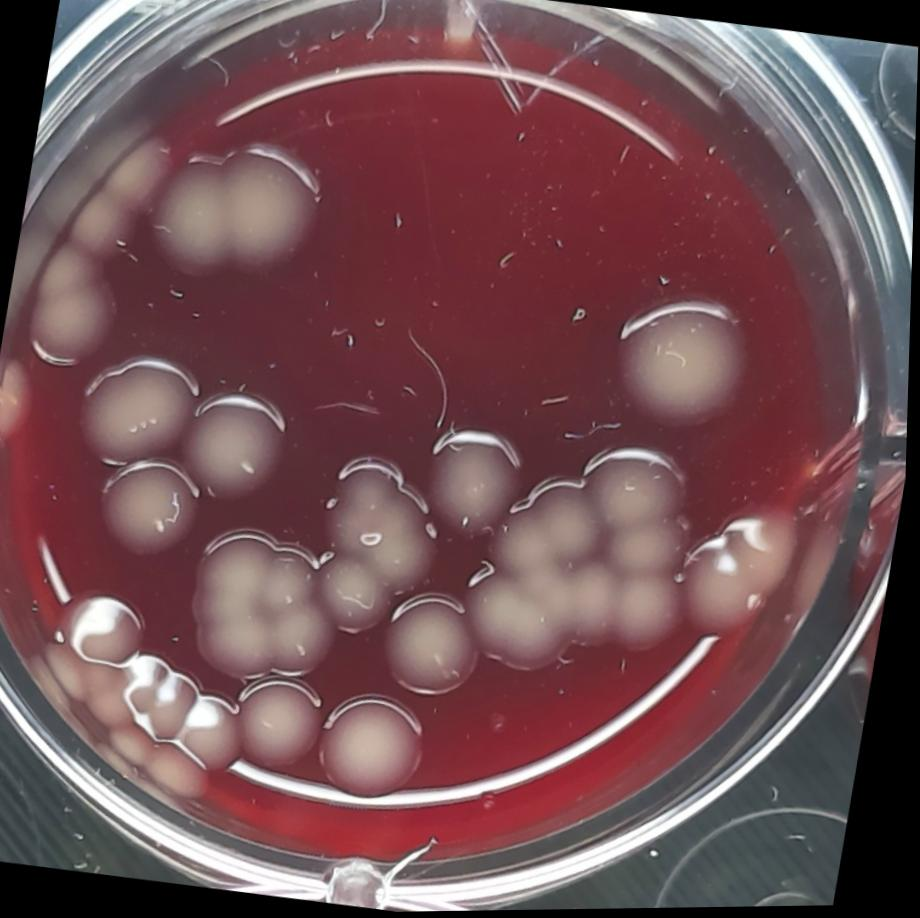vharveyi: (457, 424, 709, 694), (182, 521, 356, 690), (308, 448, 455, 648), (151, 139, 333, 284), (601, 280, 763, 437), (71, 350, 209, 484), (113, 653, 259, 778), (683, 500, 810, 643), (308, 690, 438, 817), (179, 379, 298, 509), (68, 120, 174, 257), (21, 244, 128, 377), (377, 586, 494, 704), (96, 456, 215, 570), (420, 426, 528, 538), (228, 667, 335, 775), (54, 584, 158, 682)
